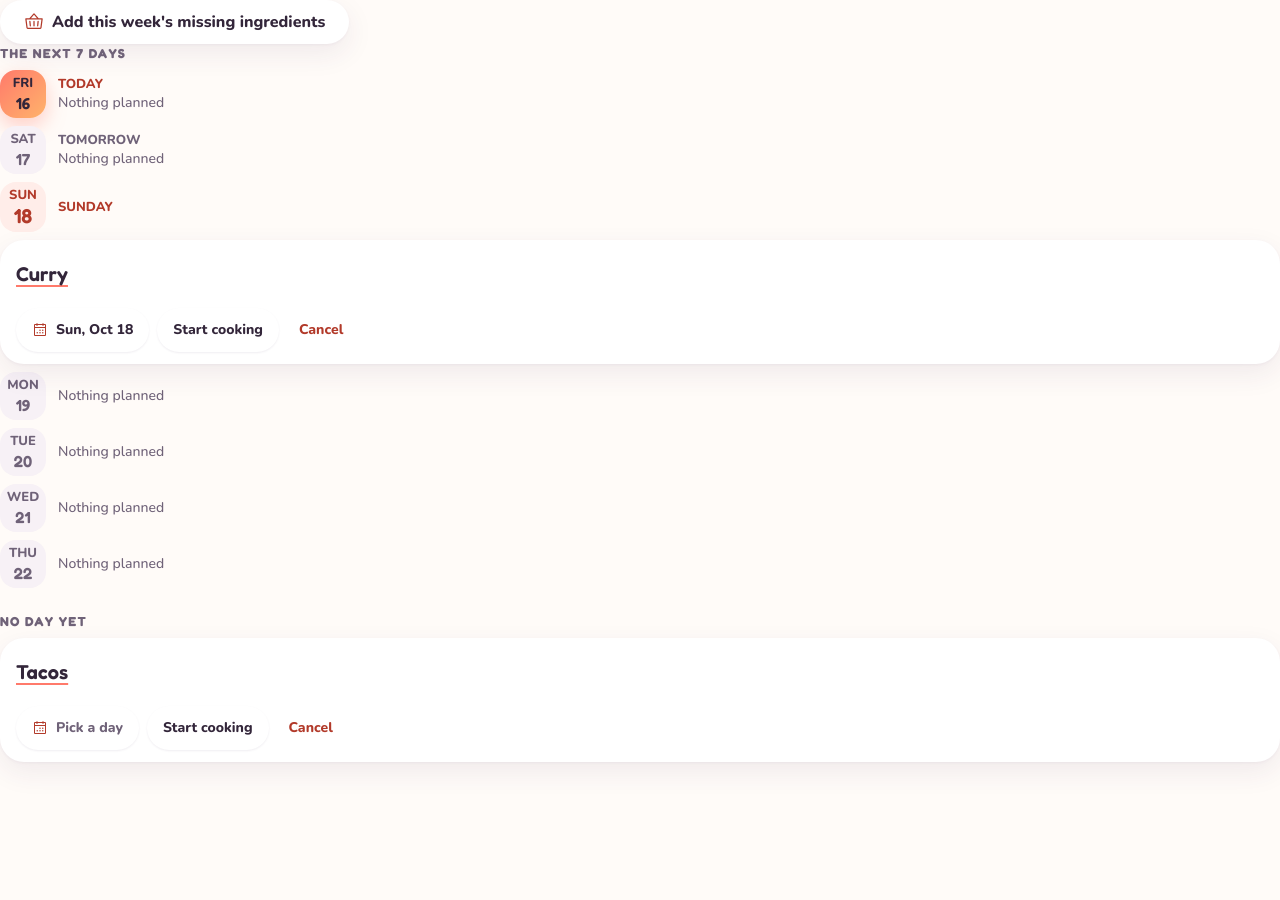
Test: Add this week's missing ingredients (KOS12) › Dated only reloads without undated meals
The width and height of the screenshot is (1280, 900).
What coordinates should you click on to do the following:
click the button "Add this week's missing ingredients"
I would click on:
 (175, 22)
Its box is [0,0,349,44].
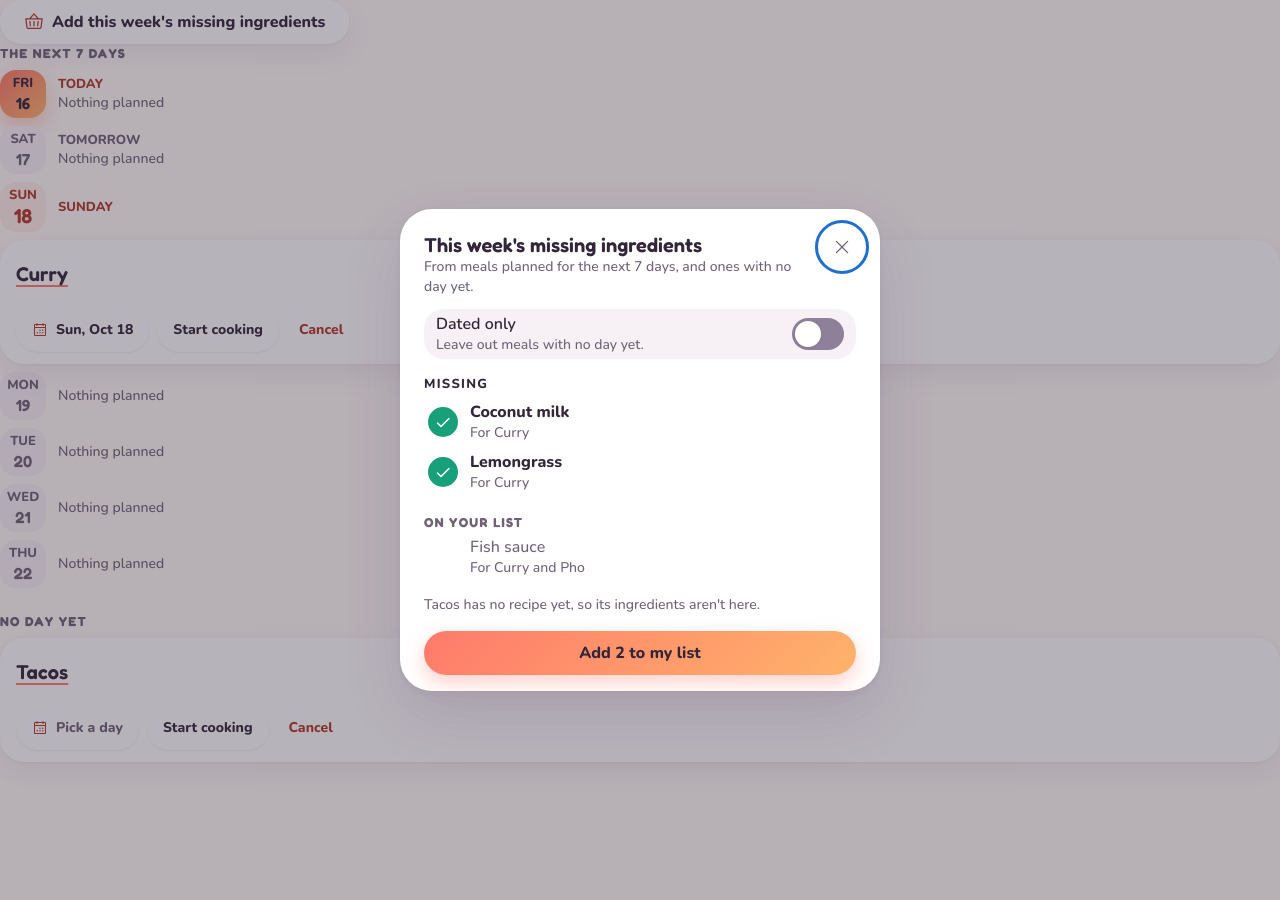
Result: the element "Missing" is shown at [424,375,569,492]
Result: the switch named "Dated only" is not checked
What coordinates should you click on to do the following:
click the switch named "Dated only"
I would click on:
 (818, 334)
Its box is [792,318,844,350].
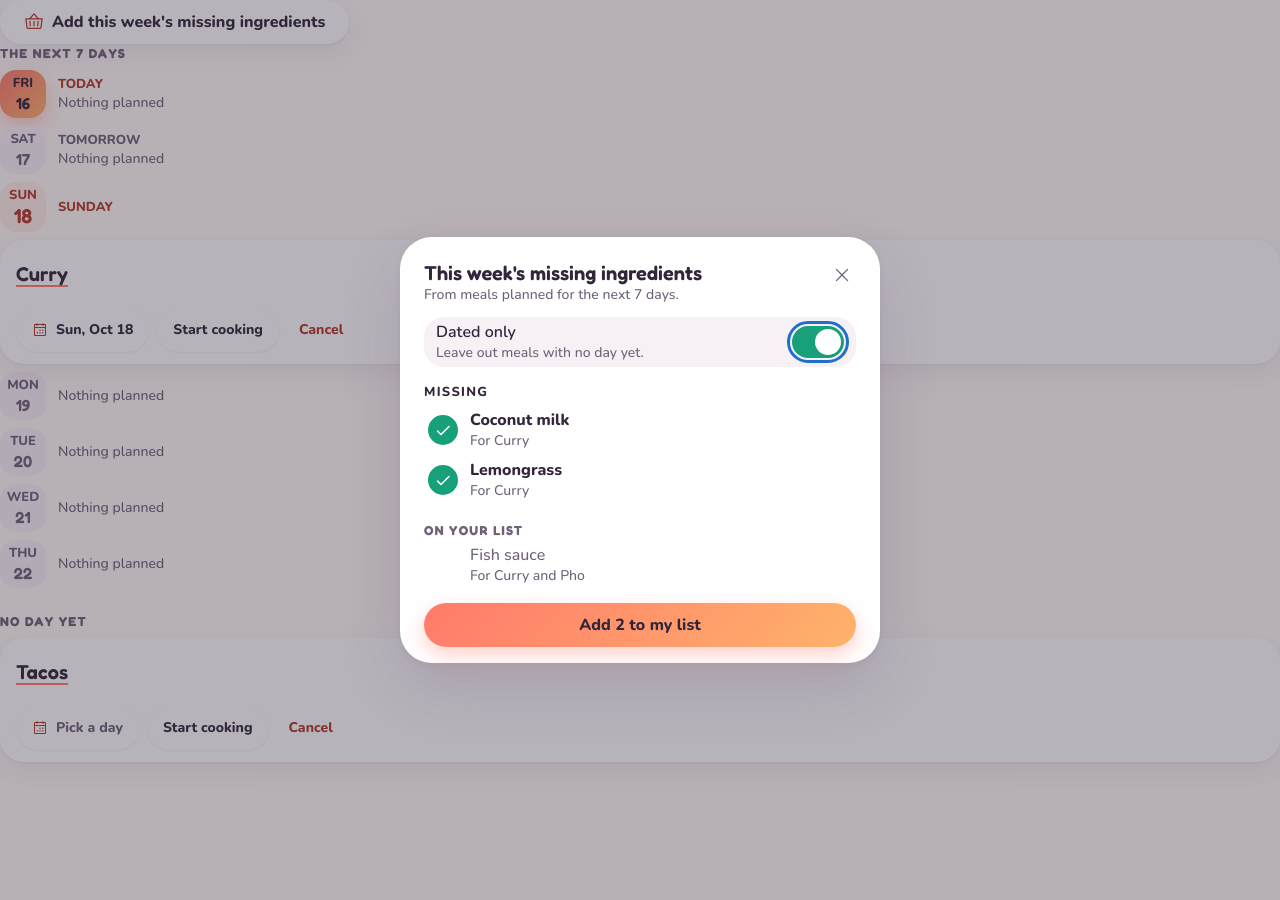
Result: the dialog "This week's missing ingredients" shows "From meals planned for the next 7 days." at [424,285,679,304]
Result: the dialog "This week's missing ingredients" no longer shows "Tacos has no recipe yet" at [400,237,880,663]
